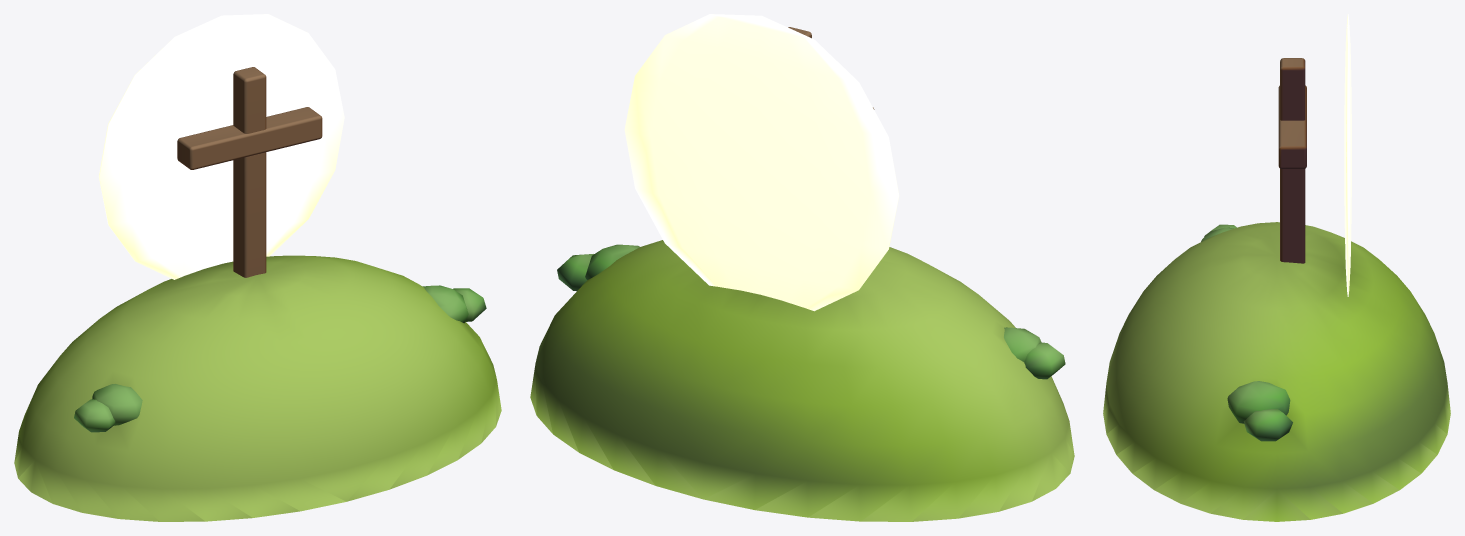
File: cross.glb
3 renders of one model, left to right at view 1: azimuth 30°, elevation 25°; view 2: azimuth 150°, elevation 25°; view 3: azimuth 270°, elevation 25°, orthographic. The views are drawn at different scales.
Visible parts, largest first — view 1: cross; view 2: cross; view 3: cross.
Boxes of the visible parts, x1,y1,x2,y2 form: cross: (14, 14, 501, 521); cross: (530, 14, 1074, 521); cross: (1103, 14, 1450, 521).
Bounding box in the file's own units: 5.9 × 4.9 × 3.99.
